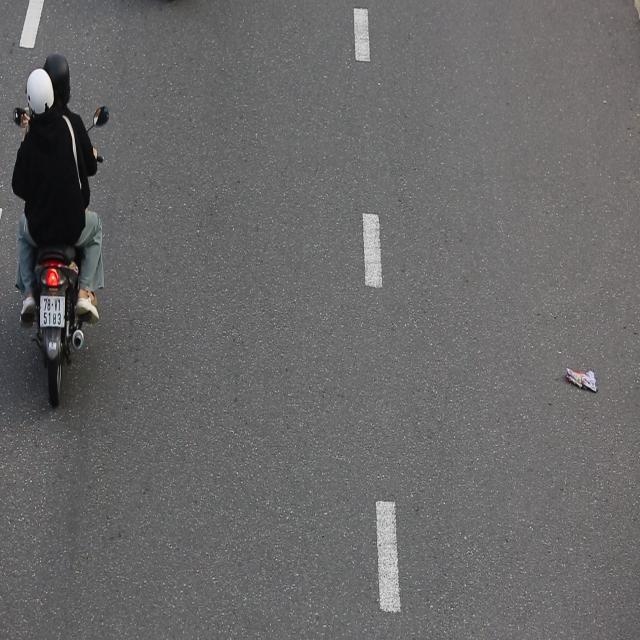motorbike: (11, 49, 110, 409)
